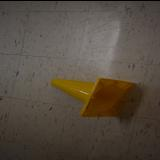cone: (50, 76, 134, 115)
